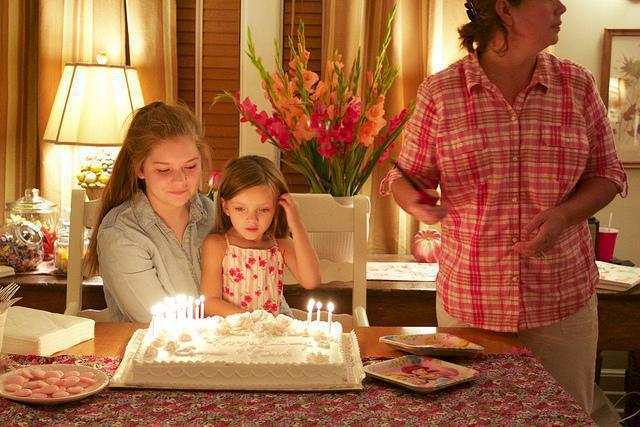Matera: (251, 40, 421, 277)
